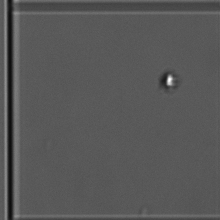Living Cell: (155, 66, 185, 96)
